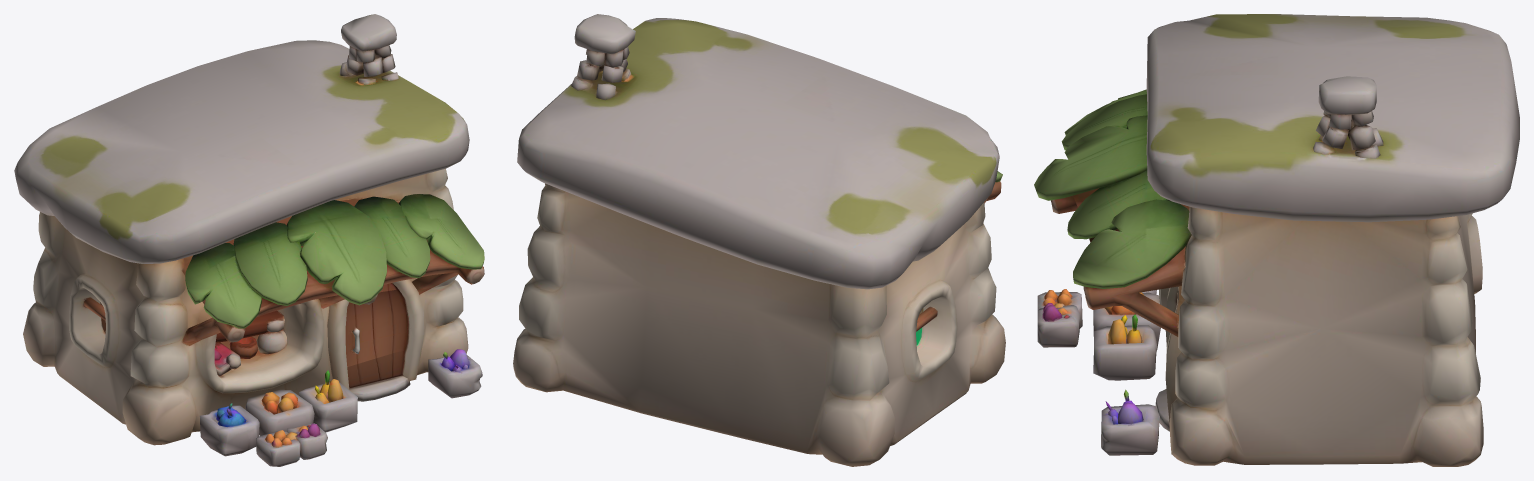
File: stone-age-shop.glb
3 renders of one model, left to right at view 1: azimuth 30°, elevation 25°; view 2: azimuth 150°, elevation 25°; view 3: azimuth 270°, elevation 25°, orthographic. The views are drawn at different scales.
Parts seen in each view (by area): view 1: Stone Age Shop; view 2: Stone Age Shop; view 3: Stone Age Shop.
Boxes of the visible parts, x1,y1,x2,y2 form: Stone Age Shop: (14,14,484,466); Stone Age Shop: (513,14,1005,466); Stone Age Shop: (1034,14,1519,466).
Size of the model in its own units: 0.998 by 0.834 by 0.9941.
1 material, 1 textured.
